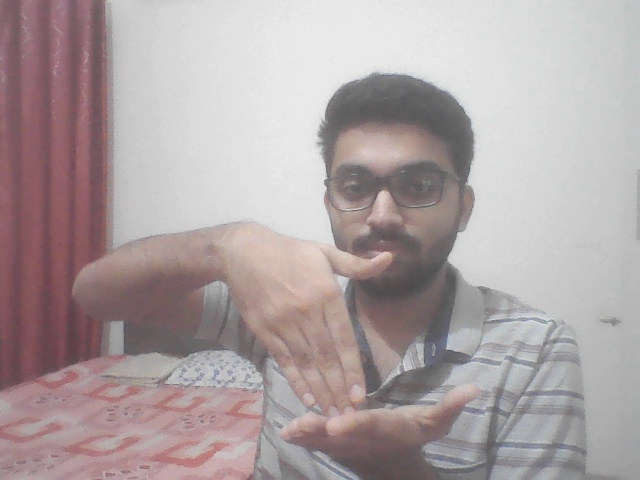again: (196, 212, 490, 462)
